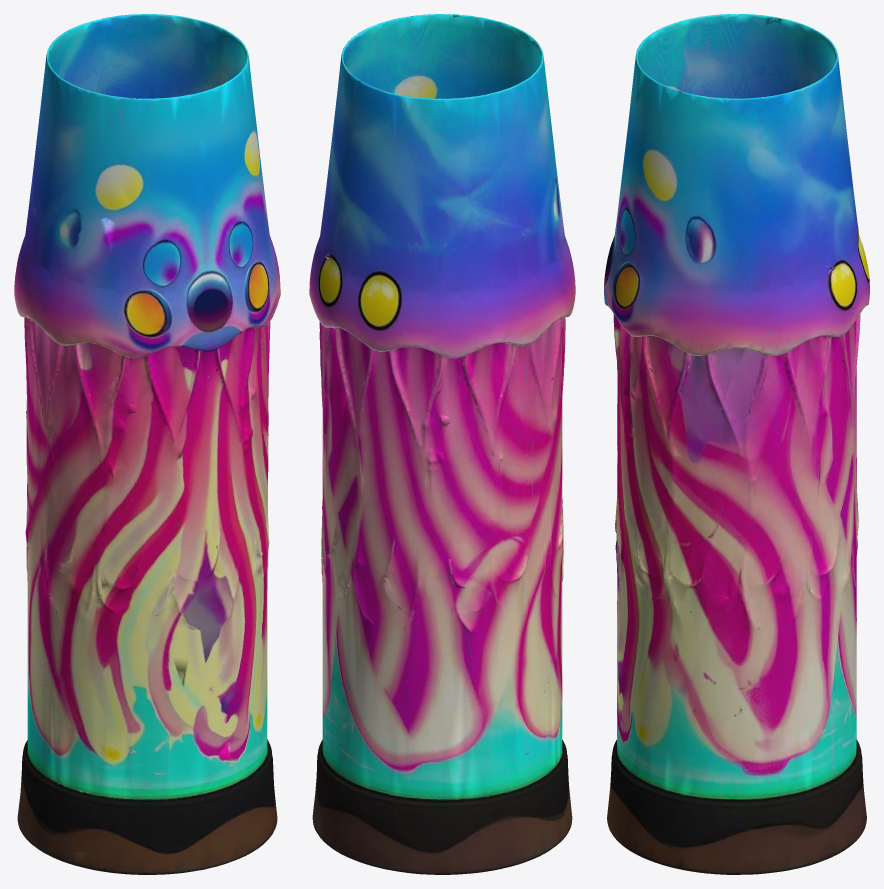
The model's file is lava-lamp-jellyfish-50006.glb.
3 views of the same model, side by side, from view 1: azimuth 30°, elevation 25°; view 2: azimuth 150°, elevation 25°; view 3: azimuth 270°, elevation 25° (orthographic).
Size of the model in its own units: 0.6041 by 1.91 by 0.6023.
Materials: 1 (1 with a texture image).
